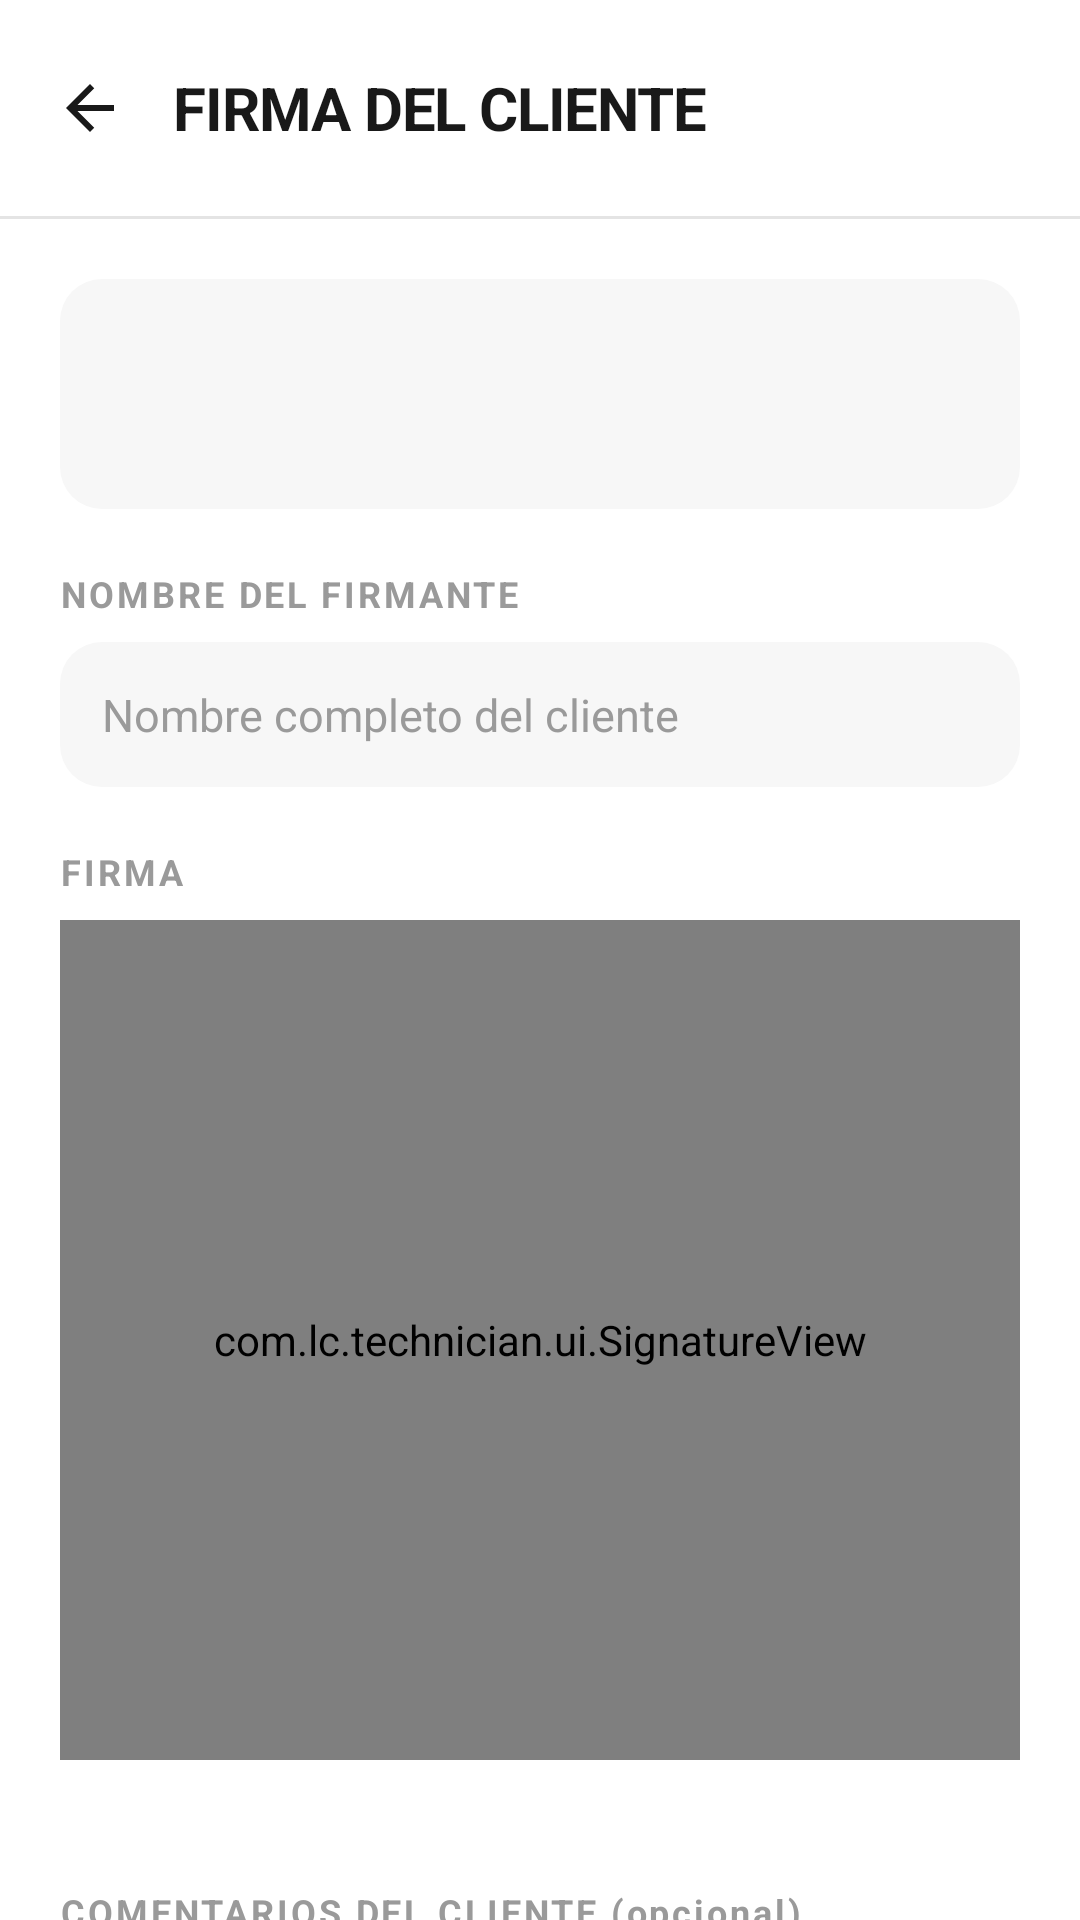

Icons on this 1080px×1920px Android screen, each with its box as bbox=[x1, y1, x2, y2]:
Atrás: bbox=[66, 84, 114, 132]
